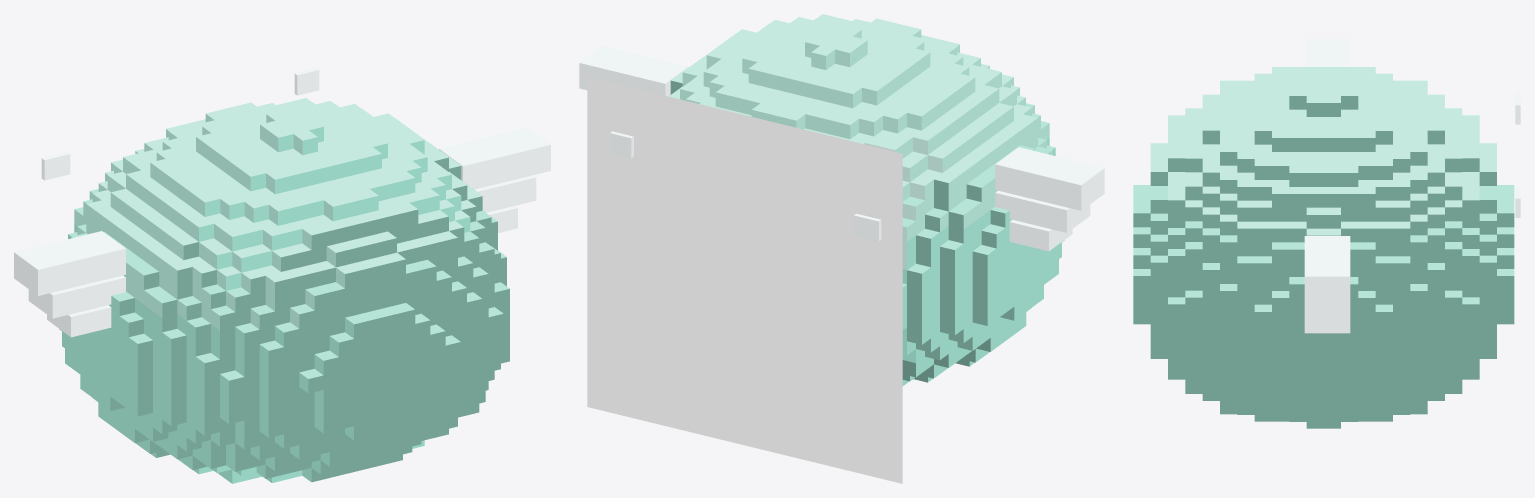
Rendered from slime_anemo_large.glb.
The picture shows the model from 3 angles, left to right: view 1: azimuth 30°, elevation 25°; view 2: azimuth 150°, elevation 25°; view 3: azimuth 270°, elevation 25°; orthographic projection. The views are drawn at different scales.
Parts seen in each view (by area): view 1: Shell, ElementDetails; view 2: Face, Shell, ElementDetails; view 3: Shell, ElementDetails.
Part boxes in pixels (<box>): Shell: <box>59,98,509,483</box>; ElementDetails: <box>14,68,550,337</box>; Face: <box>587,77,902,483</box>; Shell: <box>668,14,1064,385</box>; ElementDetails: <box>579,45,1104,251</box>; Shell: <box>1133,67,1514,428</box>; ElementDetails: <box>1304,39,1520,333</box>.
Size of the model in its own units: 2.66 by 1.67 by 1.83.
